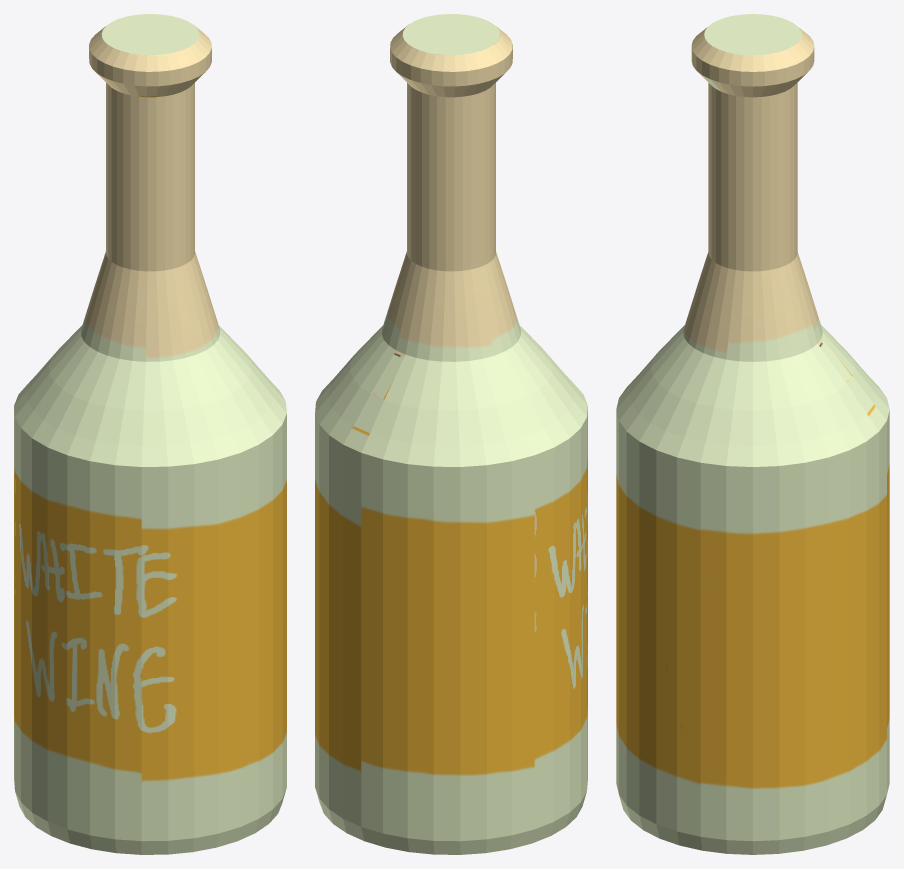
Rendered from WhiteWine.fbx.
3 views of the same model, side by side, from view 1: azimuth 30°, elevation 25°; view 2: azimuth 150°, elevation 25°; view 3: azimuth 270°, elevation 25° (orthographic).
Parts seen in each view (by area): view 1: Circle; view 2: Circle; view 3: Circle.
Boxes of the visible parts, box(x1,y1,x2,y2) form: Circle: box(14, 14, 286, 854); Circle: box(315, 14, 587, 854); Circle: box(616, 14, 889, 854).
Bounding box in the file's own units: 207 × 638 × 207.
